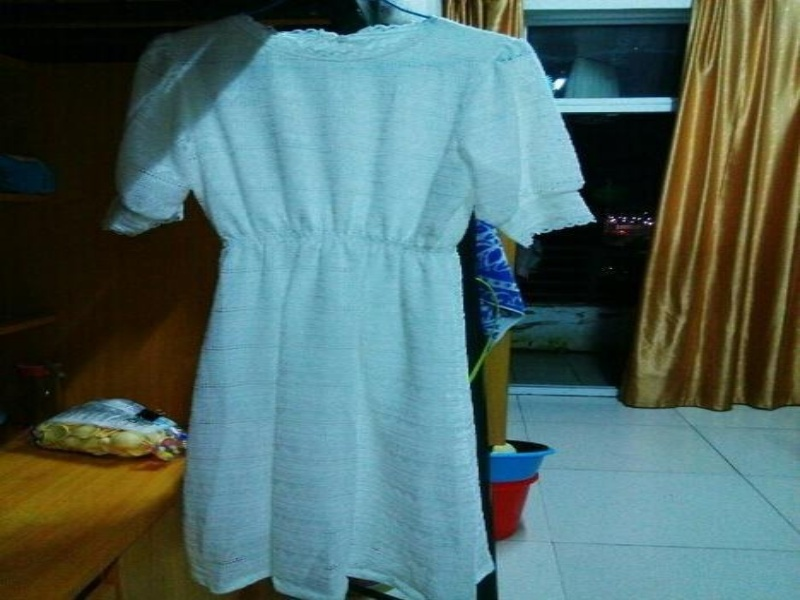short_sleeved_dress: (89, 2, 607, 599)
